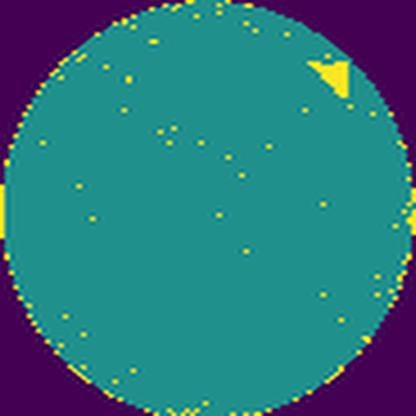Loc: (307, 59, 351, 96)
